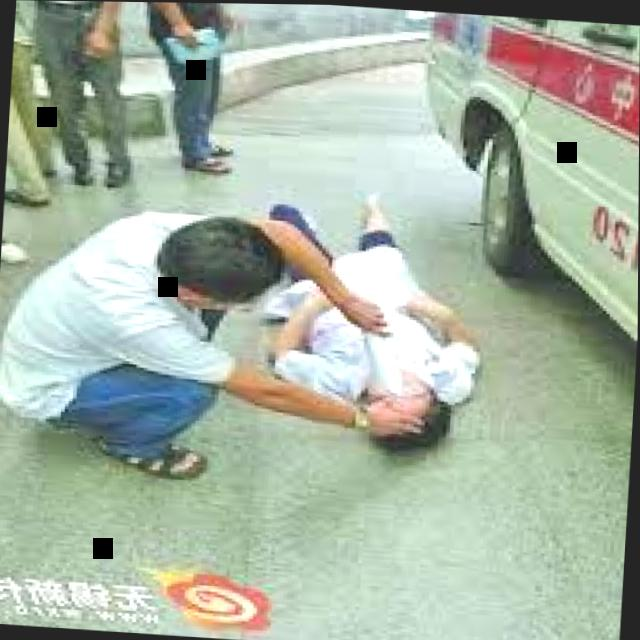Fall-Detected: (274, 166, 509, 466)
